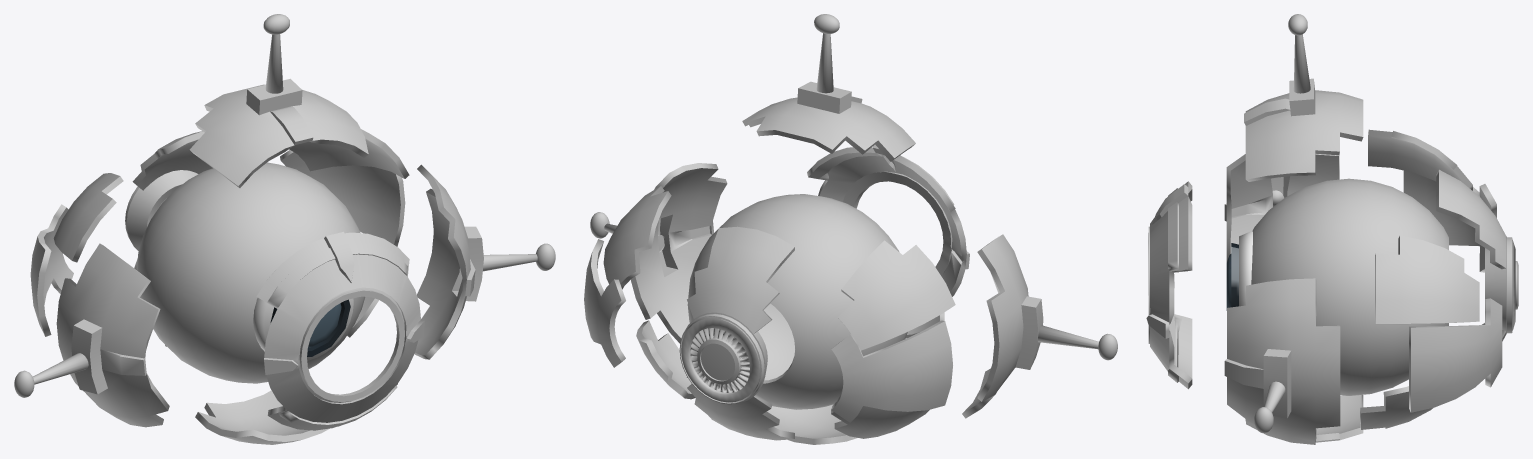
The model's file is meggie fbx 12.4.fbx.
The picture shows the model from 3 angles, left to right: view 1: azimuth 30°, elevation 25°; view 2: azimuth 150°, elevation 25°; view 3: azimuth 270°, elevation 25°; orthographic projection. The views are drawn at different scales.
Visible parts, largest first — view 1: core, voorkant vlak.001, atenen vlak L, boven atenen vlak, vlak r atenen, vlak 1, achterkant, vlak 4 beneden, vlak 7, l vierkant, ring voorkant, vlak 5 (+10 smaller); view 2: core, achterkant, vlak r atenen, vlak 5, vlak 7, boven atenen vlak, voorkant vlak.001, atenen vlak L, vlak 2, vlak 1, vlak 4 beneden, vlak 3 (+9 smaller); view 3: core, vlak r atenen, vlak 2, boven atenen vlak, vlak 1, voorkant vlak.001, achterkant, atenen vlak L, vlak 7, vlak 5, vlak r atenen.001, vlak 3 (+8 smaller).
Part boxes in pixels (<box>): core: <box>136,162,365,383</box>; voorkant vlak.001: <box>256,232,420,430</box>; atenen vlak L: <box>56,243,169,427</box>; boven atenen vlak: <box>189,84,368,187</box>; vlak r atenen: <box>414,164,471,359</box>; vlak 1: <box>280,150,405,246</box>; achterkant: <box>126,131,212,346</box>; vlak 4 beneden: <box>195,390,329,444</box>; vlak 7: <box>53,173,123,262</box>; l vierkant: <box>71,319,144,394</box>; ring voorkant: <box>299,289,404,401</box>; vlak 5: <box>30,204,73,336</box>; core: <box>687,194,907,409</box>; achterkant: <box>680,226,794,440</box>; vlak r atenen: <box>630,163,727,343</box>; vlak 5: <box>831,320,952,422</box>; vlak 7: <box>838,240,955,350</box>; boven atenen vlak: <box>742,97,915,161</box>; voorkant vlak.001: <box>807,147,966,338</box>; atenen vlak L: <box>962,234,1028,418</box>; vlak 2: <box>603,186,671,289</box>; vlak 1: <box>584,239,625,367</box>; vlak 4 beneden: <box>767,404,857,444</box>; vlak 3: <box>636,320,695,399</box>; core: <box>1251,178,1448,395</box>; vlak r atenen: <box>1227,278,1340,444</box>; vlak 2: <box>1375,235,1479,324</box>; boven atenen vlak: <box>1245,90,1363,181</box>; vlak 1: <box>1409,298,1502,412</box>; voorkant vlak.001: <box>1149,181,1192,389</box>; achterkant: <box>1436,169,1515,341</box>; atenen vlak L: <box>1224,154,1339,262</box>; vlak 7: <box>1368,129,1472,190</box>; vlak 5: <box>1403,170,1496,272</box>; vlak r atenen.001: <box>1224,349,1291,418</box>; vlak 3: <box>1360,386,1432,429</box>.
Size of the model in its own units: 222 by 166 by 135.
